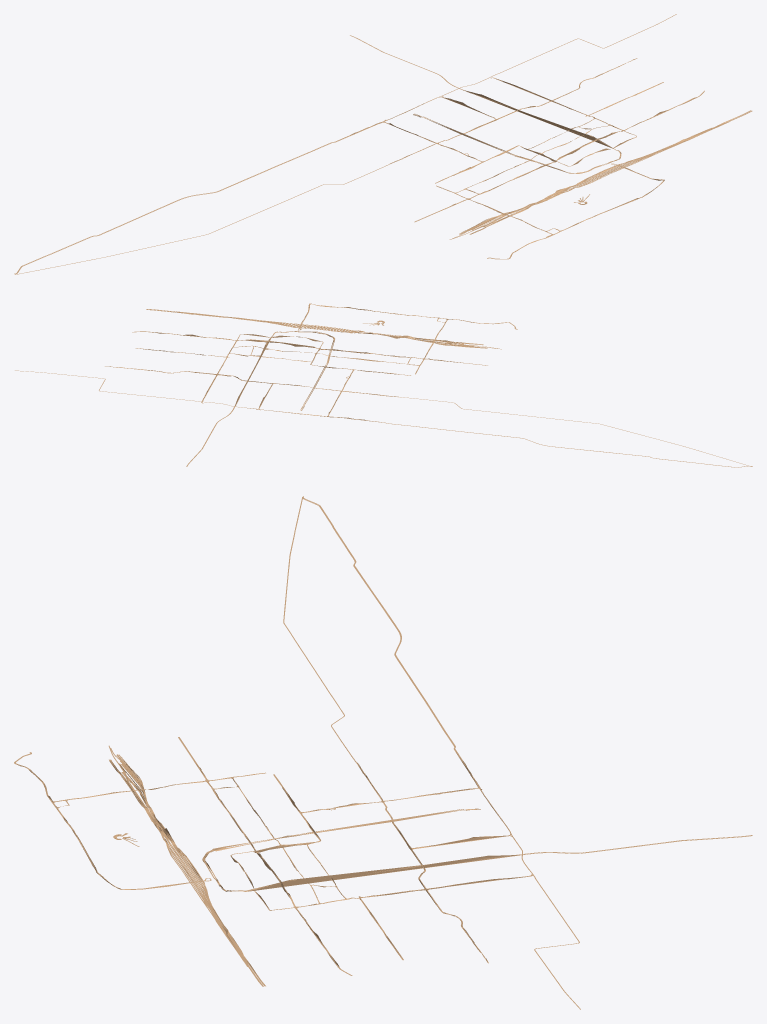
Rendered from rail.glb.
3 renders of one model, top to bottom at view 1: azimuth 30°, elevation 25°; view 2: azimuth 150°, elevation 25°; view 3: azimuth 270°, elevation 25°, orthographic. The views are drawn at different scales.
Parts seen in each view (by area): view 1: rail; view 2: rail; view 3: rail.
Boxes of the visible parts, bbox=[...] form: rail: bbox=[14, 14, 752, 274]; rail: bbox=[15, 303, 752, 467]; rail: bbox=[14, 496, 752, 1009].
Size of the model in its own units: 6795 by 53.08 by 4138.
